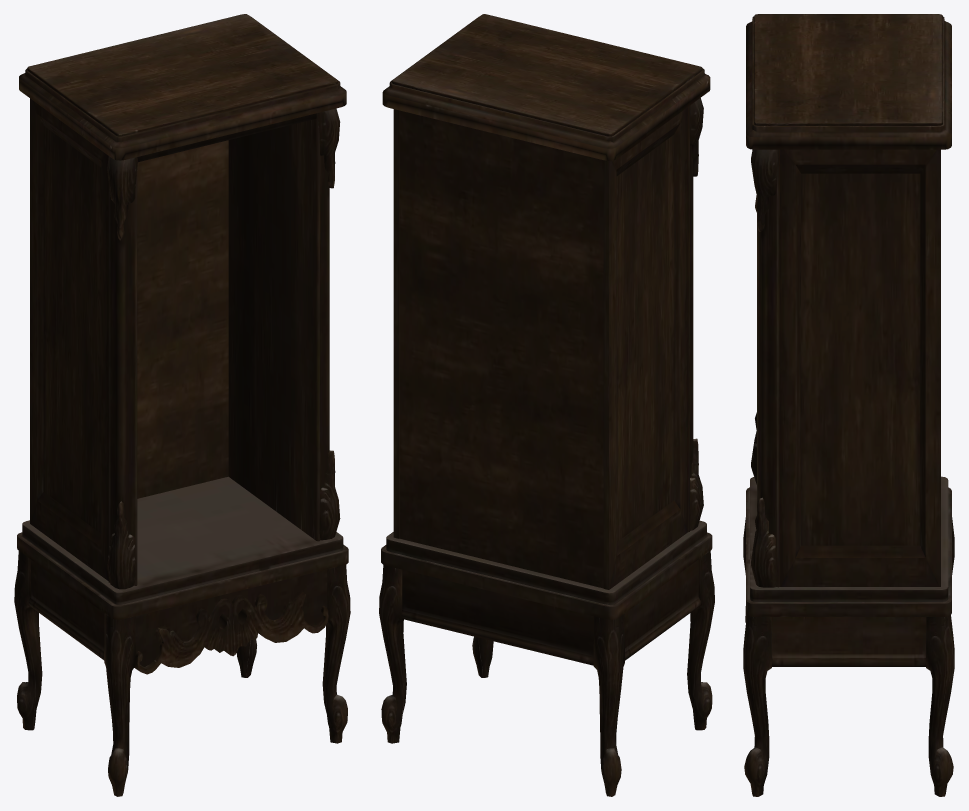
File: hall_table.glb
3 renders of one model, left to right at view 1: azimuth 30°, elevation 25°; view 2: azimuth 150°, elevation 25°; view 3: azimuth 270°, elevation 25°, orthographic.
Parts seen in each view (by area): view 1: ClassicNightstand_01.001; view 2: ClassicNightstand_01.001; view 3: ClassicNightstand_01.001.
Part boxes in pixels (bbox=[...]): ClassicNightstand_01.001: bbox=[14, 14, 350, 796]; ClassicNightstand_01.001: bbox=[379, 14, 714, 796]; ClassicNightstand_01.001: bbox=[743, 14, 954, 796].
Size of the model in its own units: 13.15 by 34.45 by 9.82.
1 material, 1 textured.
